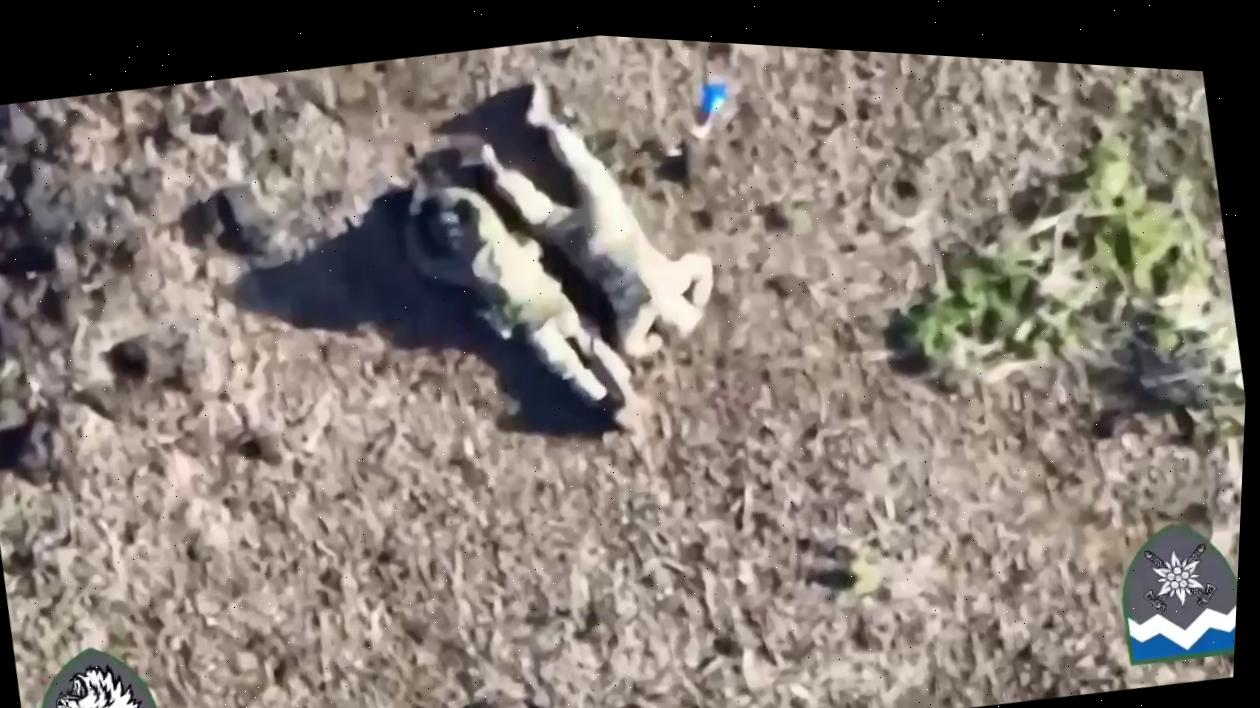person: (459, 46, 748, 387), (390, 150, 647, 457)
